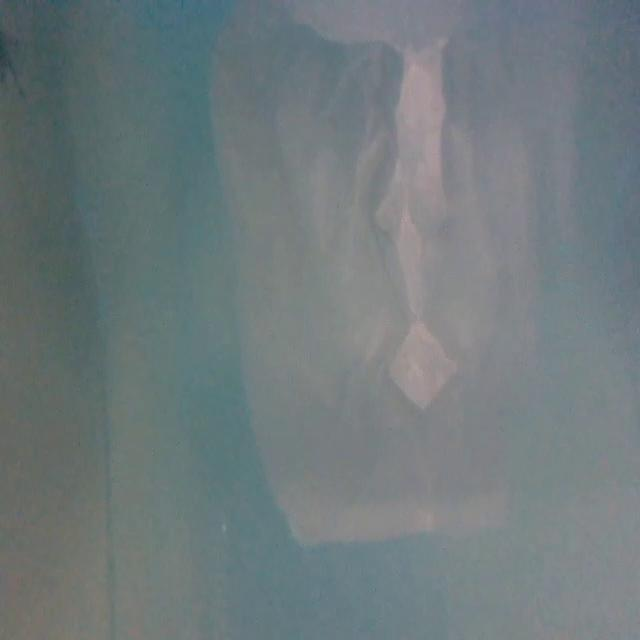plastic bags: (208, 0, 551, 544)
